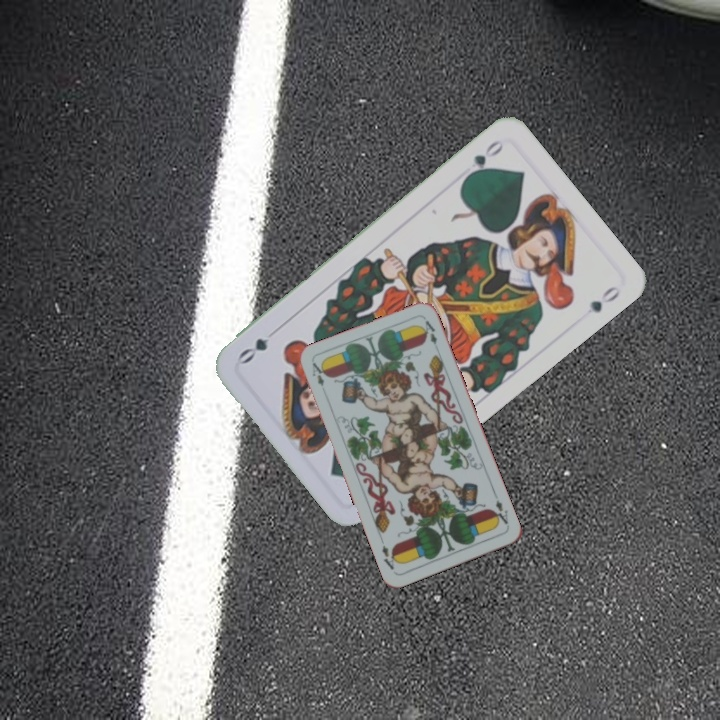EA: (489, 495, 512, 529), (308, 358, 328, 389)
GO: (460, 136, 506, 182)
